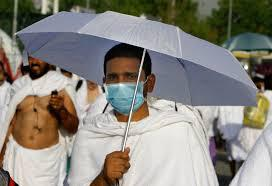NONE: (29, 53, 47, 76)
OK: (106, 73, 145, 112)
